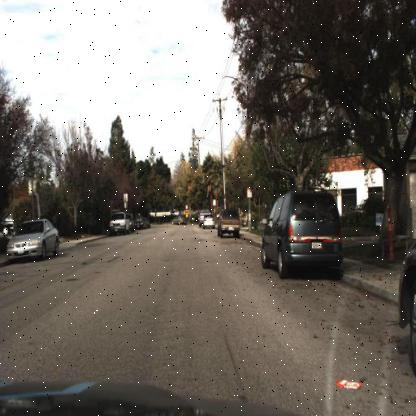car: (260, 180, 347, 282), (6, 216, 61, 264), (215, 204, 244, 242), (106, 208, 130, 236), (168, 209, 186, 228), (131, 209, 145, 232), (202, 213, 216, 232)
